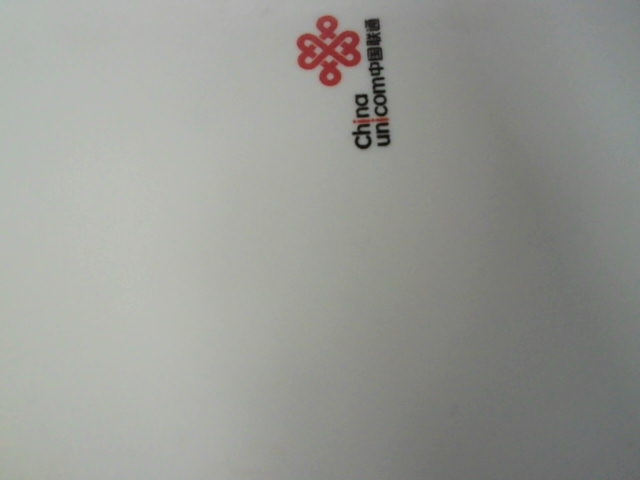AC_ChinaUnicom: (290, 7, 418, 161)
